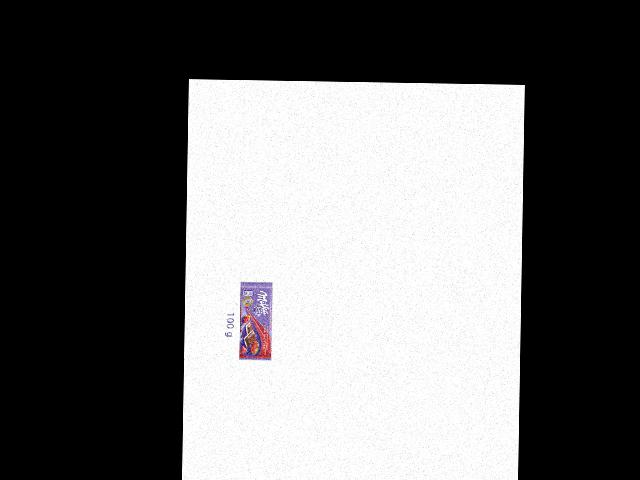chocolate: (235, 282, 272, 360)
